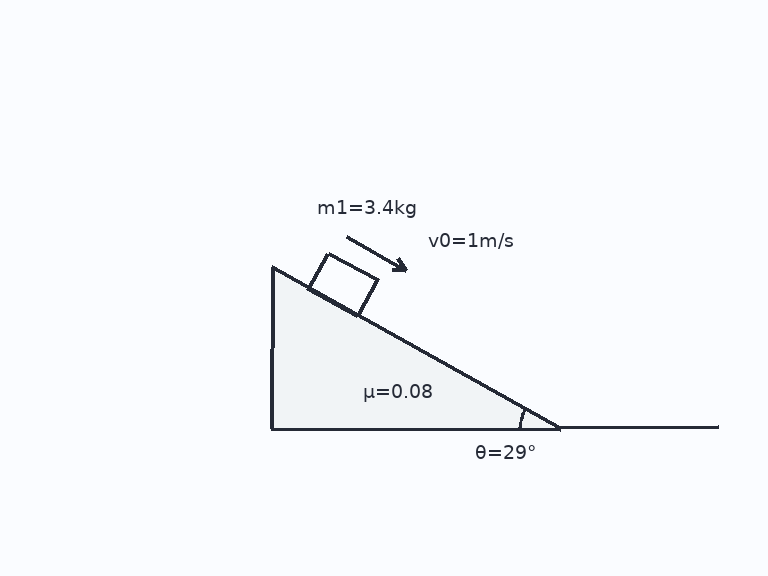block: (306, 251, 379, 317)
ramp: (269, 266, 562, 430)
